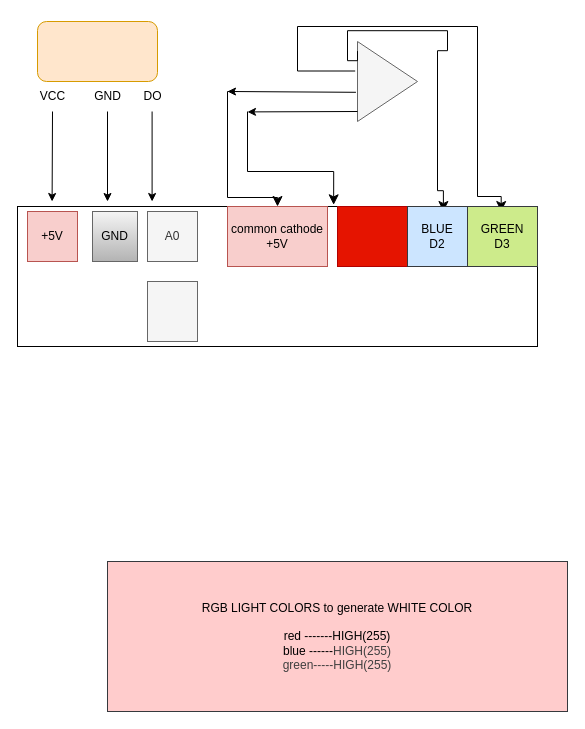
The diagram is 585 pixels wide and 729 high, and some of its shapes have lost their labels. The shapes that lost their labels are listed below. From the top down, each one's box as (x1, y1, x2, y2) in pixels, then its label:
(36, 20, 158, 82): LDR sensor
(356, 40, 418, 122): RGB light
(336, 206, 408, 266): RED D4
(146, 280, 198, 342): A1
